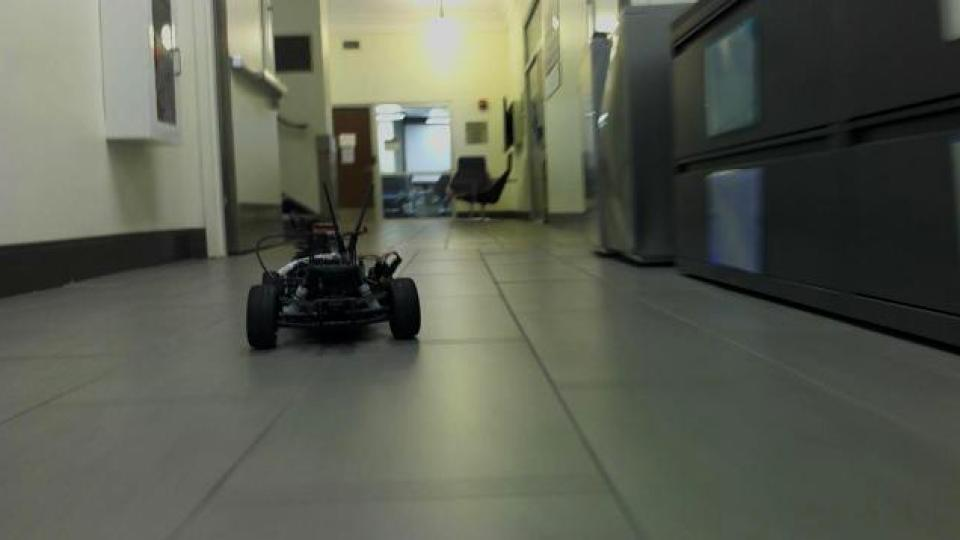car: (242, 179, 424, 352)
